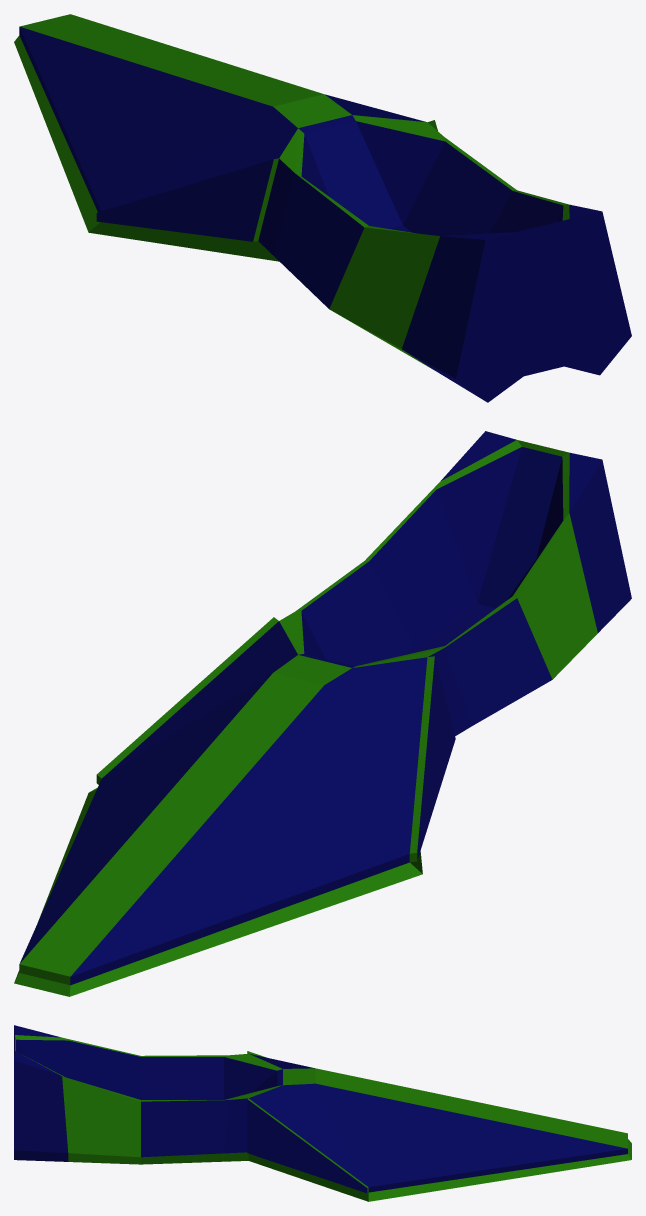
The model's file is ARC_Frame_Part_Wipeout.fbx.
3 renders of one model, top to bottom at view 1: azimuth 30°, elevation 25°; view 2: azimuth 150°, elevation 25°; view 3: azimuth 270°, elevation 25°, orthographic. The views are drawn at different scales.
Visible parts, largest first — view 1: ARC_Frame_Ship; view 2: ARC_Frame_Ship; view 3: ARC_Frame_Ship.
Part boxes in pixels (left/top/right/bottom): ARC_Frame_Ship: left=14, top=14, right=631, bottom=402; ARC_Frame_Ship: left=14, top=431, right=631, bottom=996; ARC_Frame_Ship: left=14, top=1025, right=631, bottom=1201.
Bounding box in the file's own units: 4.51 × 2.28 × 11.73.
